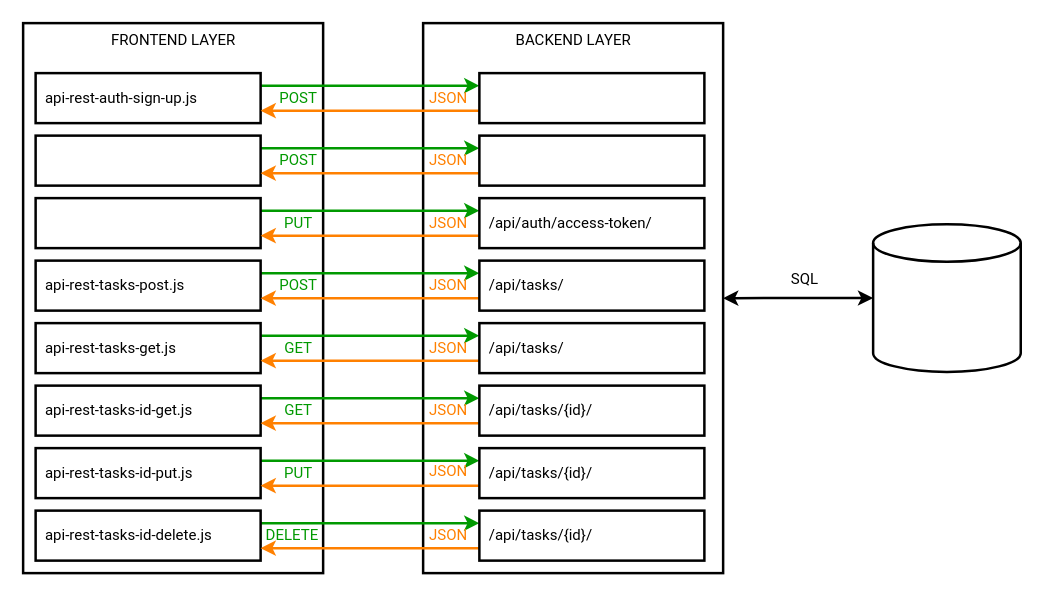
The diagram is 1044 pixels wide and 595 high, and some of its shapes have lost their labels. Each missing label, with the centre of its shape:
"/api/auth/sign-in/" goes at (x=591, y=160).
"/api/auth/sign-up/" goes at (x=591, y=97).
"api-rest-auth-access-token.js" goes at (x=147, y=222).
"api-rest-auth-sign-in.js" goes at (x=147, y=160).
"DATABASE" goes at (x=946, y=297).
